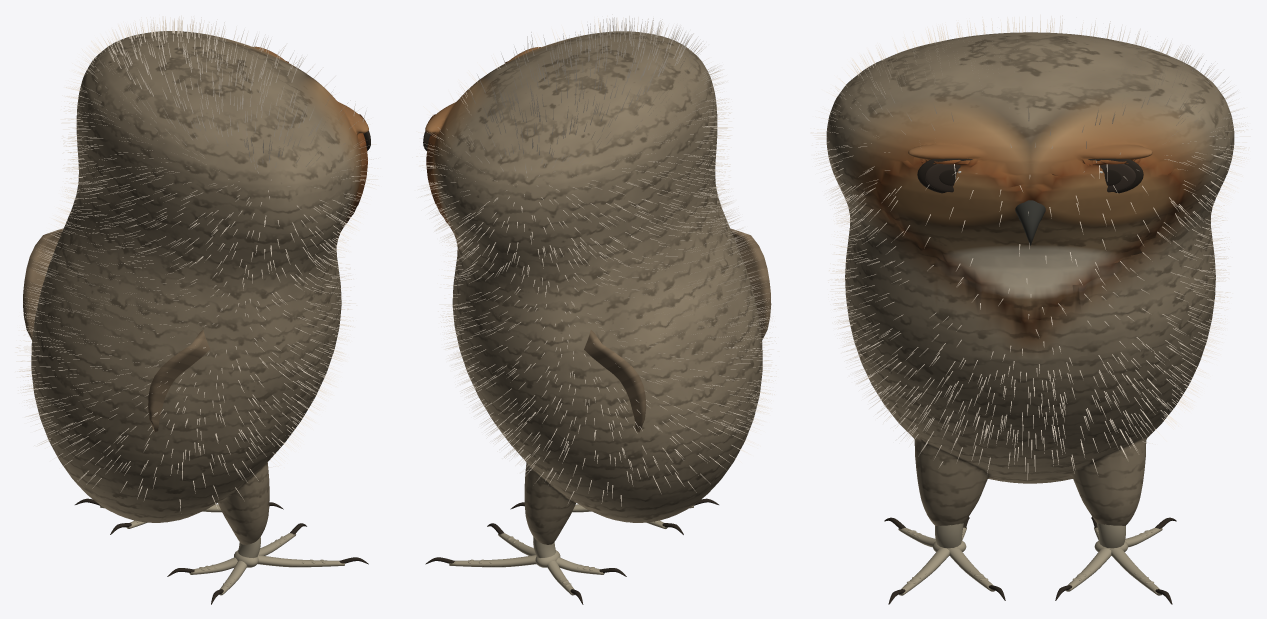
The model's file is owl172_run89_real_guide_baked_GLTF_ART_REJECTED.glb.
3 renders of one model, left to right at view 1: azimuth 30°, elevation 25°; view 2: azimuth 150°, elevation 25°; view 3: azimuth 270°, elevation 25°, orthographic. The views are drawn at different scales.
Visible parts, largest first — view 1: Continuous anatomical skin | owl, Run89RealGuidesToMesh NOT APPROVED, Cambered folded wing foundation, Cambered folded wing foundation.001, Articulated bird toe 1; view 2: Continuous anatomical skin | owl, Run89RealGuidesToMesh NOT APPROVED, Cambered folded wing foundation.001, Cambered folded wing foundation, Articulated bird toe 1.001; view 3: Continuous anatomical skin | owl, Run89RealGuidesToMesh NOT APPROVED, Closed descending upper hook and seated cere, Articulated bird toe 1, Articulated bird toe 1.001, Bare raptor tarsus seated inside thigh and foot.001, Bare raptor tarsus seated inside thigh and foot.
Boxes of the visible parts, x1,y1,x2,y2 form: Continuous anatomical skin | owl: [31, 31, 368, 544]; Run89RealGuidesToMesh NOT APPROVED: [15, 15, 380, 510]; Cambered folded wing foundation: [148, 330, 210, 432]; Cambered folded wing foundation.001: [23, 228, 63, 339]; Articulated bird toe 1: [257, 555, 344, 567]; Continuous anatomical skin | owl: [425, 31, 762, 544]; Run89RealGuidesToMesh NOT APPROVED: [412, 14, 779, 506]; Cambered folded wing foundation.001: [584, 330, 645, 432]; Cambered folded wing foundation: [730, 228, 771, 340]; Articulated bird toe 1.001: [449, 555, 536, 567]; Continuous anatomical skin | owl: [826, 32, 1234, 525]; Run89RealGuidesToMesh NOT APPROVED: [810, 14, 1251, 479]; Closed descending upper hook and seated cere: [1015, 200, 1045, 245]; Articulated bird toe 1: [899, 548, 949, 595]; Articulated bird toe 1.001: [1111, 548, 1161, 595]; Bare raptor tarsus seated inside thigh and foot.001: [1097, 523, 1125, 548]; Bare raptor tarsus seated inside thigh and foot: [935, 523, 963, 548].
Bounding box in the file's own units: 0.269 × 0.406 × 0.3113.
Materials: 10 (8 with a texture image).
